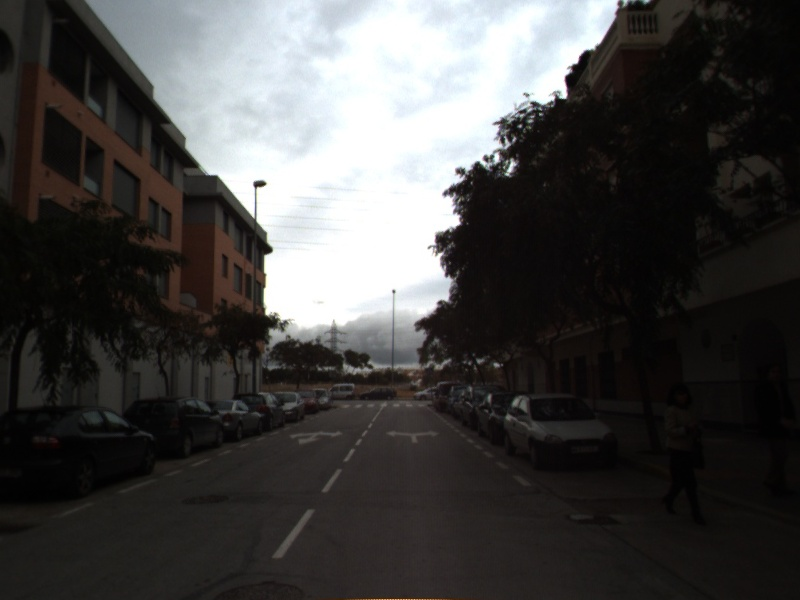LEFT_RIGHT: (384, 428, 442, 445)
